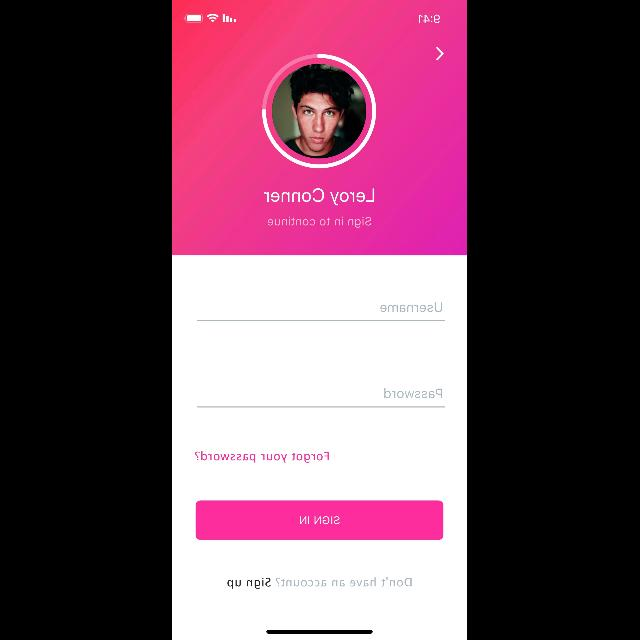icon: (438, 47, 444, 61)
image: (262, 54, 378, 168)
input: (198, 388, 447, 408), (198, 302, 446, 322)
text: (228, 577, 412, 589), (265, 188, 375, 206), (195, 451, 329, 463), (268, 216, 372, 228)
textbutton: (196, 500, 444, 540)
uppertaskbar: (184, 14, 440, 24)
